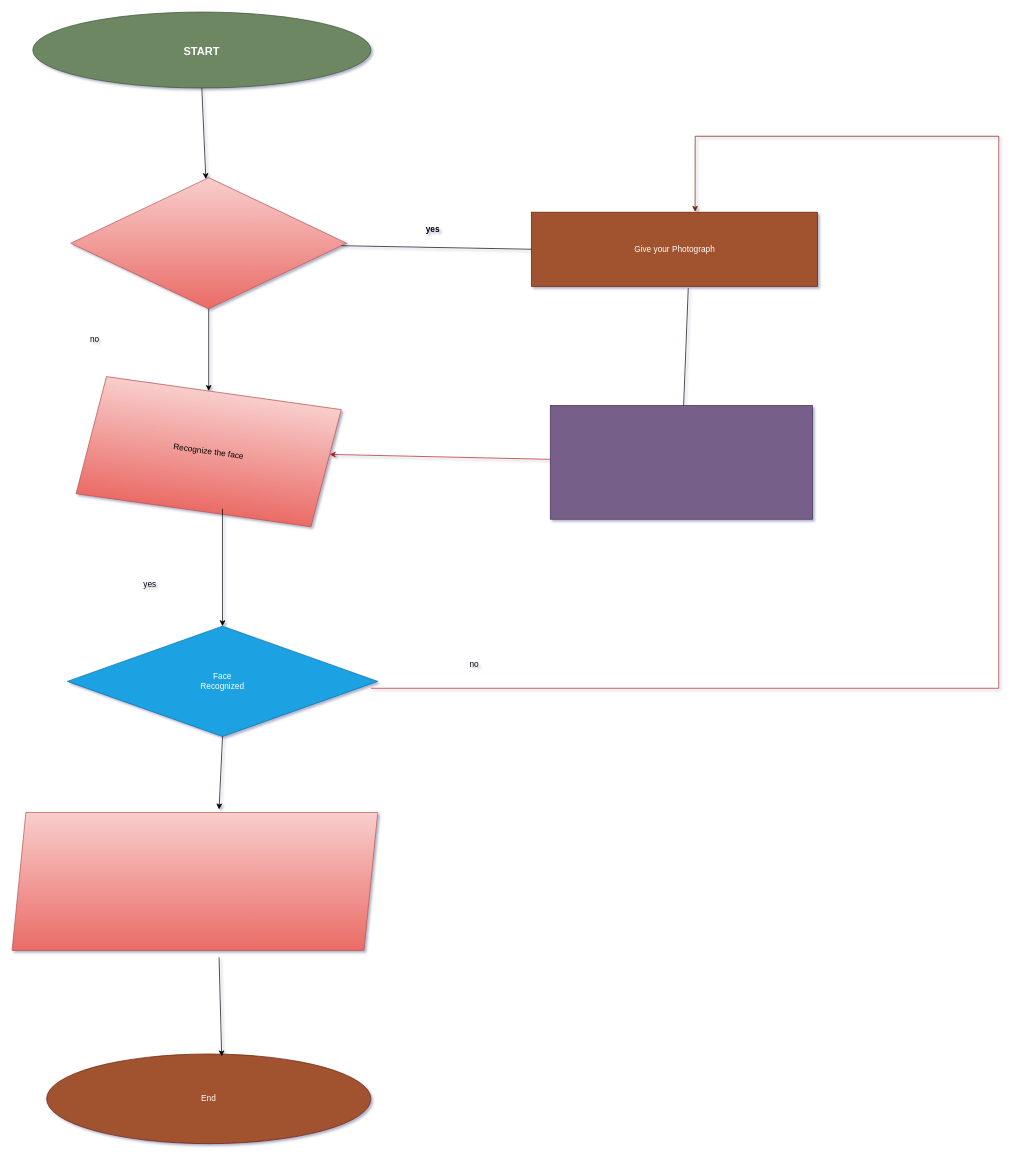
This 1016x1160 diagram has some shape labels left out. Each missing label, with the centre of its shape:
New Use?: point 208,243
Store the face data in folder on your name: point 681,462
Stored in CSV file with Registration Number 7 Date .Time of Entry: point 194,881
